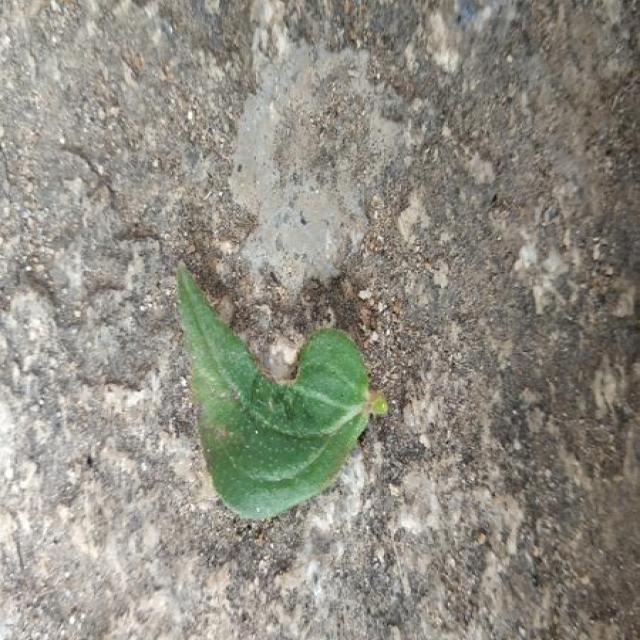defectetedAstma_weed: (177, 266, 387, 518)
